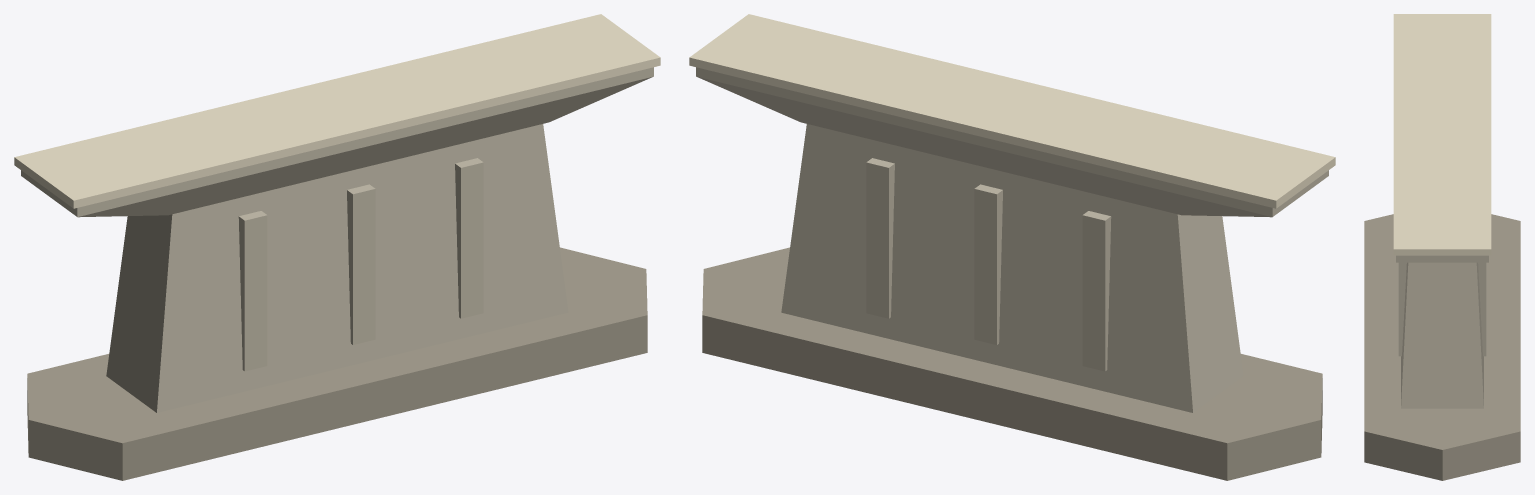
File: bridge_pier.glb
3 renders of one model, left to right at view 1: azimuth 30°, elevation 25°; view 2: azimuth 150°, elevation 25°; view 3: azimuth 270°, elevation 25°, orthographic. The views are drawn at different scales.
Parts seen in each view (by area): view 1: bridge_pier; view 2: bridge_pier; view 3: bridge_pier.
Part boxes in pixels (left/top/right/bottom): bridge_pier: left=14, top=14, right=660, bottom=480; bridge_pier: left=689, top=14, right=1335, bottom=480; bridge_pier: left=1364, top=14, right=1520, bottom=480.
Bounding box in the file's own units: 12 × 5.1 × 3.2.
